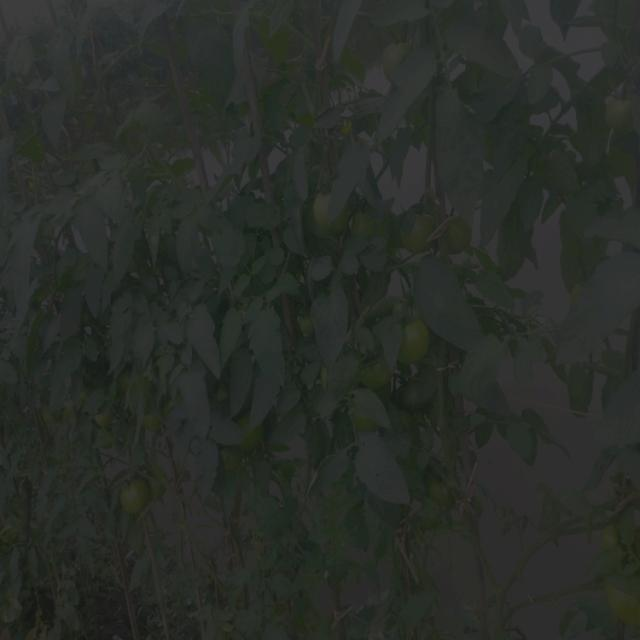tomato: (601, 88, 640, 139), (402, 203, 429, 254), (613, 578, 640, 629), (123, 473, 155, 516), (378, 39, 413, 77), (402, 314, 429, 362), (313, 191, 337, 237), (395, 382, 431, 412), (361, 355, 393, 388), (426, 466, 454, 503), (447, 218, 474, 255), (295, 307, 321, 345), (353, 206, 377, 244), (90, 405, 119, 428), (145, 411, 169, 430)
